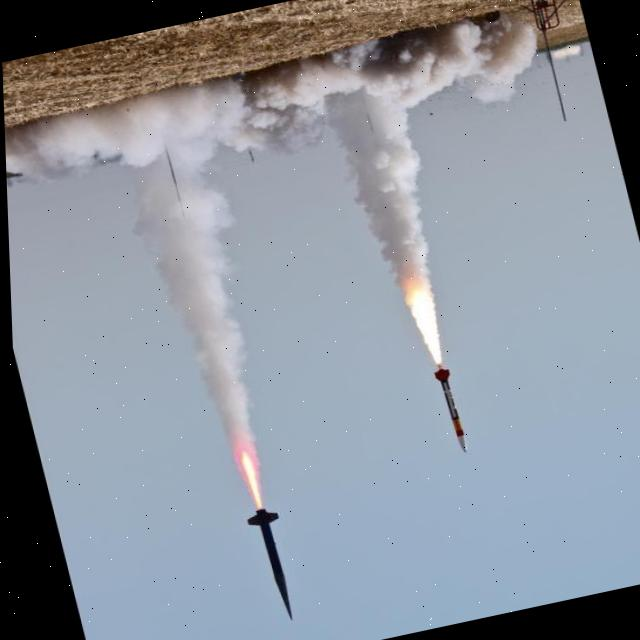missile: (238, 501, 307, 627), (422, 357, 473, 458)
